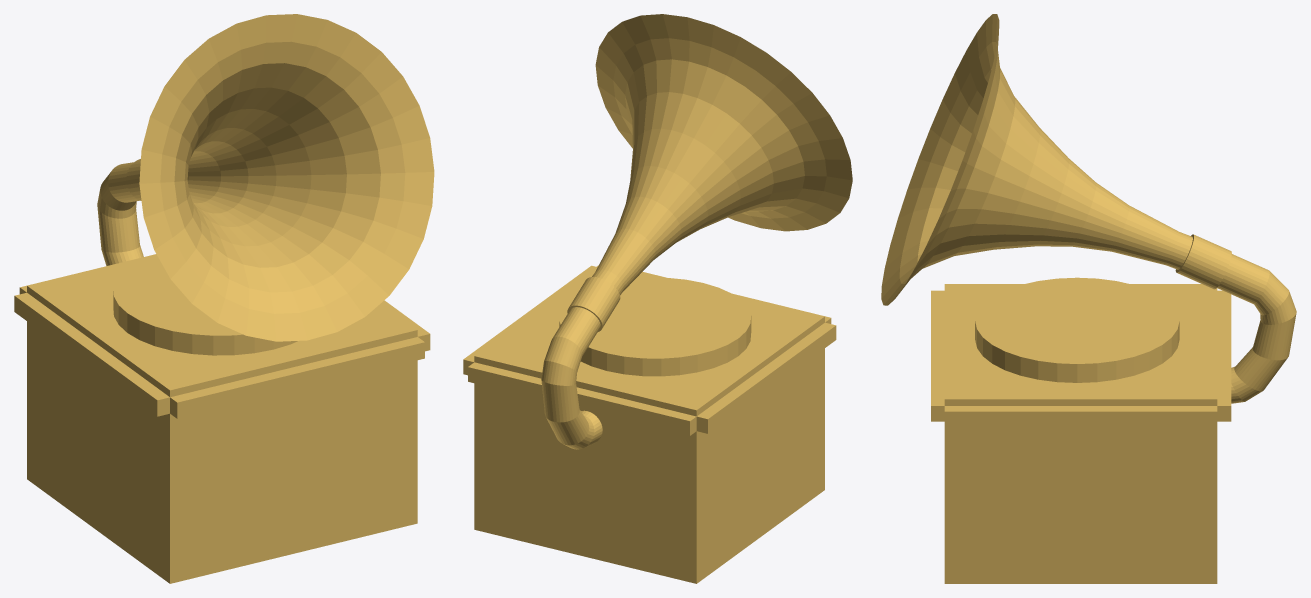
The model's file is grammystatue.dae.
3 views of the same model, side by side, from view 1: azimuth 30°, elevation 25°; view 2: azimuth 150°, elevation 25°; view 3: azimuth 270°, elevation 25° (orthographic). The views are drawn at different scales.
Parts seen in each view (by area): view 1: Plane_003; view 2: Plane_003; view 3: Plane_003.
Part boxes in pixels (x1,y1,x2,y2): Plane_003: (14,14,434,583); Plane_003: (463,14,852,583); Plane_003: (881,14,1296,583).
Size of the model in its own units: 1.51 by 1.97 by 2.59.
